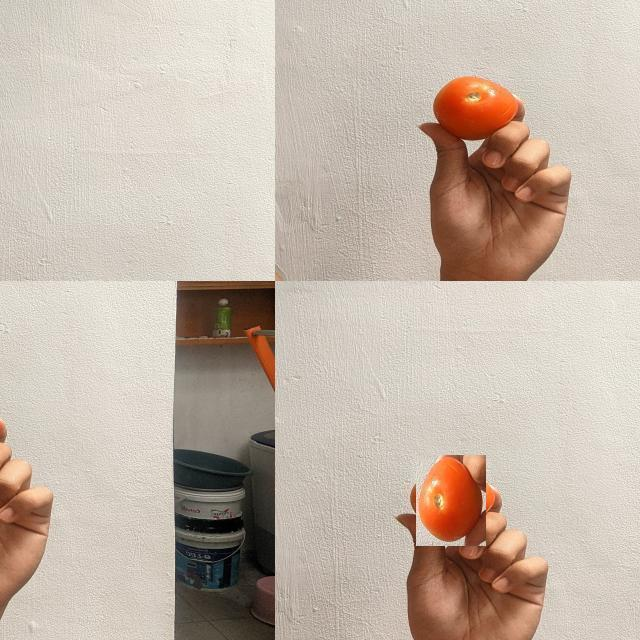tomato: (412, 460, 493, 542)
